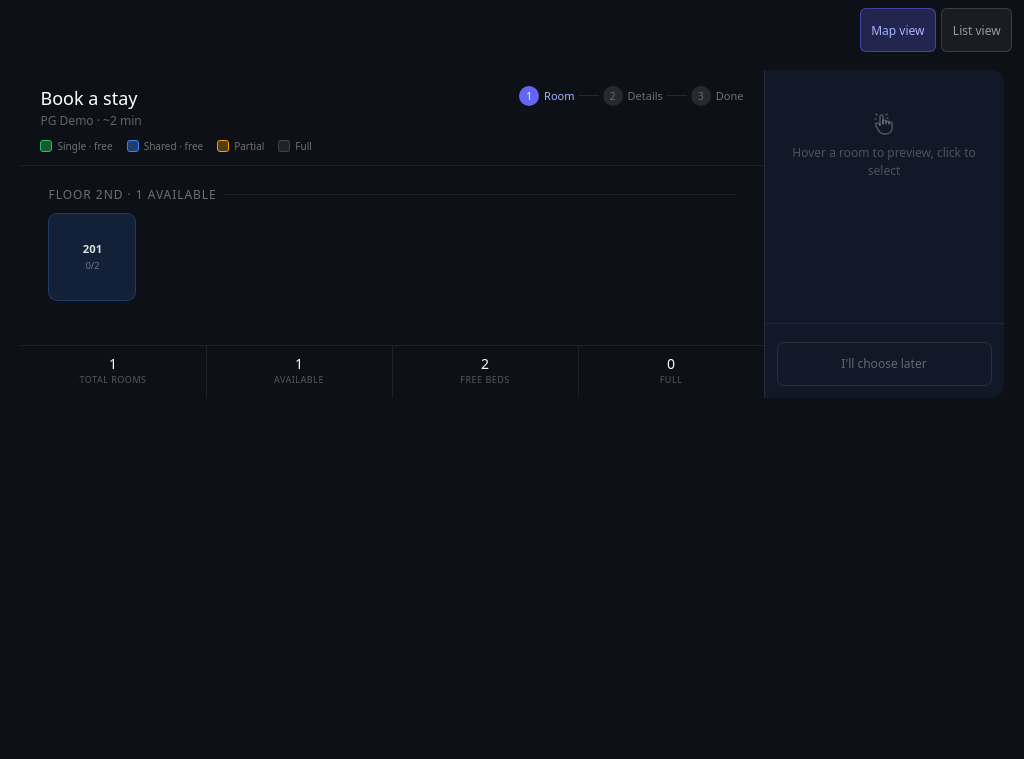
Test: PublicBookingPage › allows choose later from seatmap
The image size is (1024, 759).
Expected: the button named "Room 201" is shown, [48, 213, 136, 301]
What coordinates should you click on to do the following:
click the button with test id "choose-later-btn"
I would click on:
 (884, 364)
Its box is [776, 342, 992, 386].
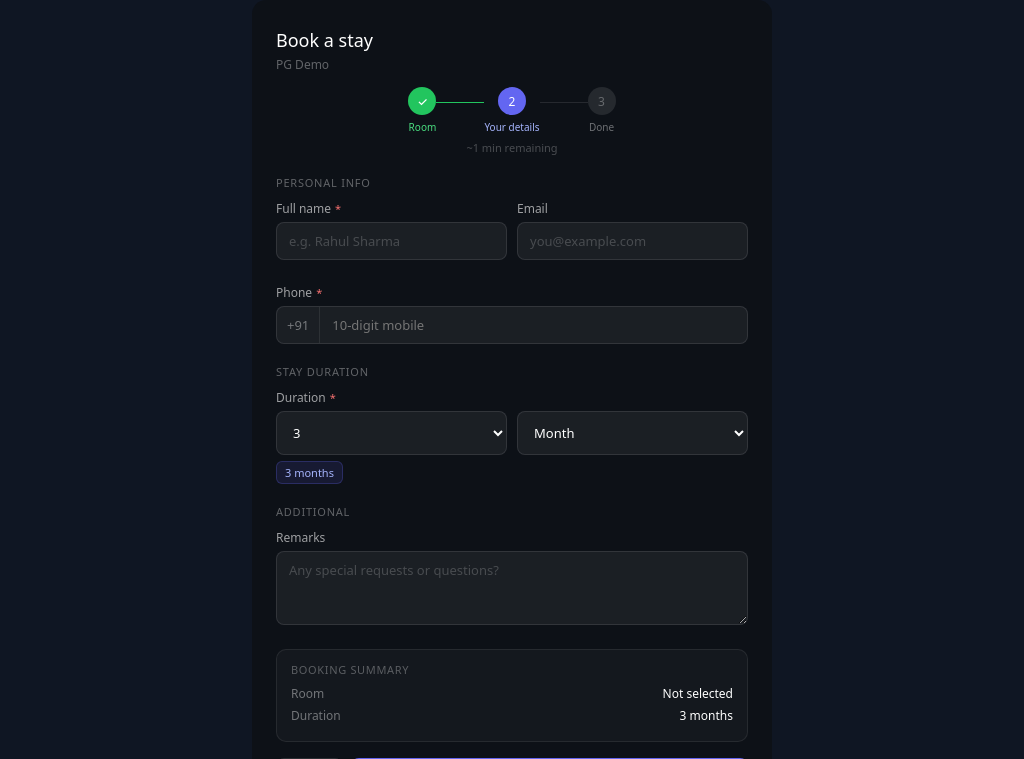
Now the field labelled "Full name *" is shown, box [276, 222, 507, 260]
